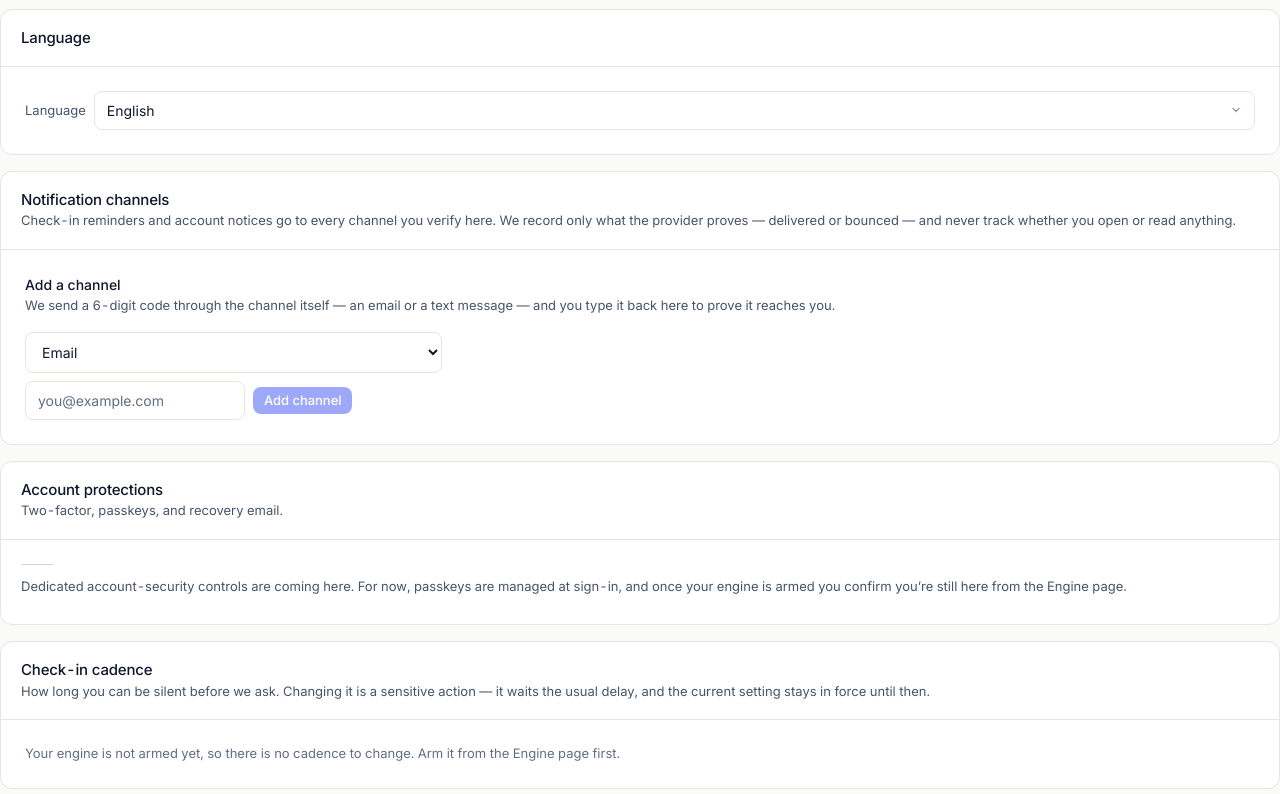
Scenario: Settings — notification channels (CV-0.0) › adds a channel, then verifies it with the code round-trip
(page scrolled)
Expected: the button with test id "channel-add" is disabled, [253,387,352,414]
In the field with test id "channel-add-destination": point(135, 400) [25,381,245,420], type "me@example.com"
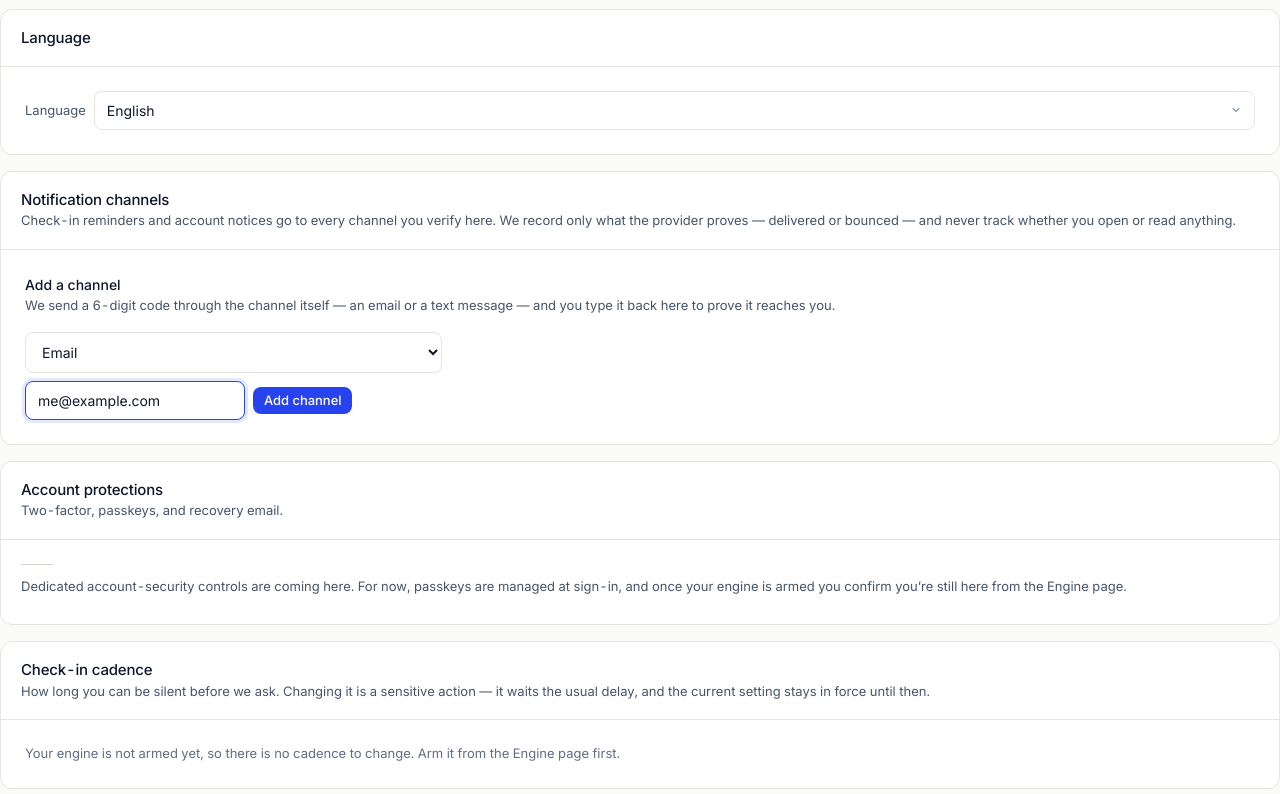
Click the button with test id "channel-add": point(303, 400) [253,387,352,414]
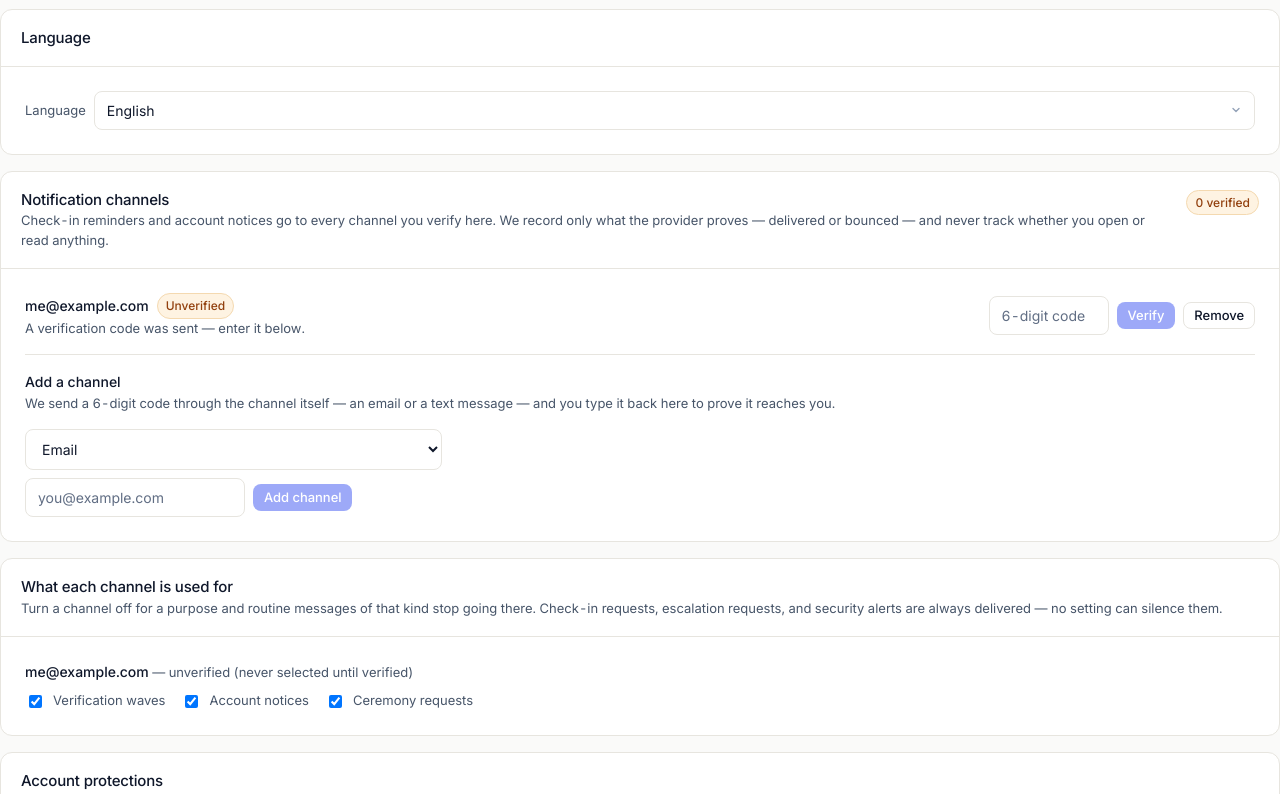
Expected: the field with test id "channel-code-ch-1" is shown
A wrong code surfaces the error and the channel stays unverified.
In the field with test id "channel-code-ch-1": point(1049, 316) [989,296,1109,335], type "999999"
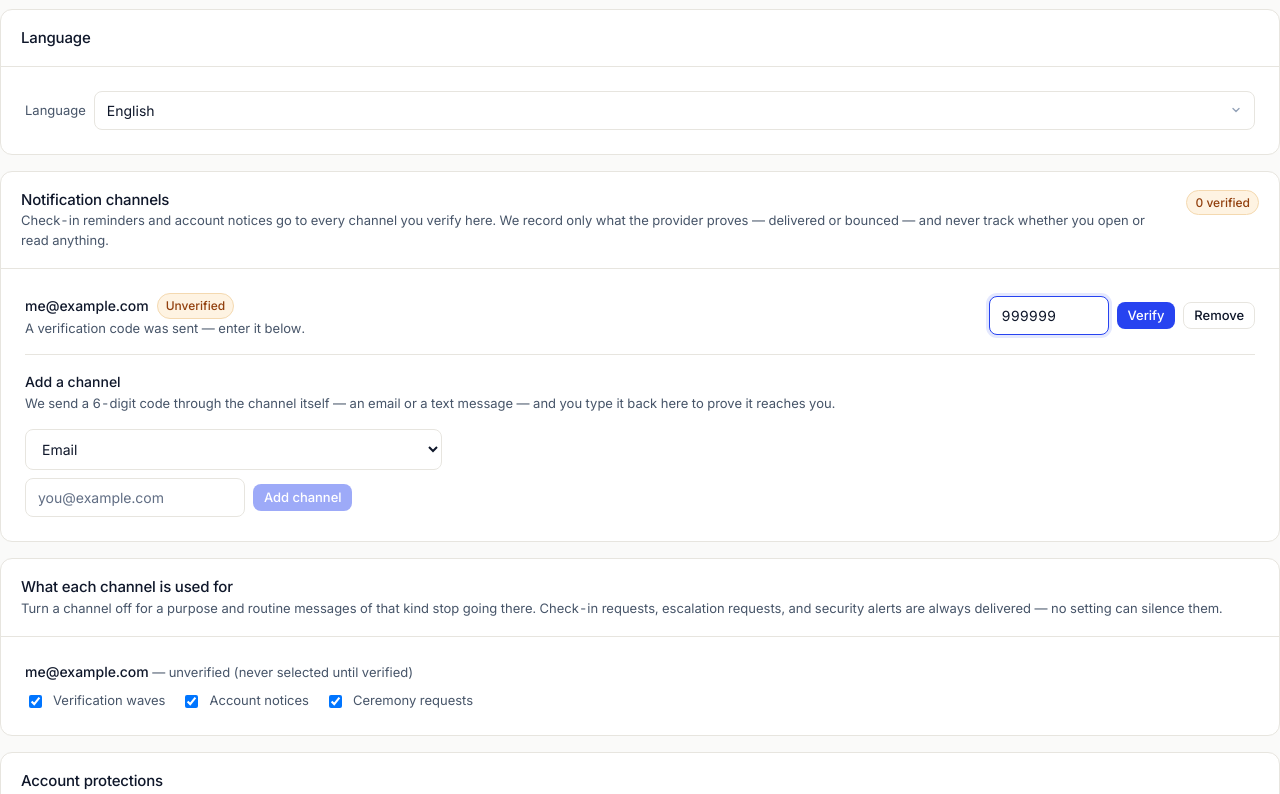
Click the button with test id "channel-verify-ch-1": point(1146, 316) [1117,302,1175,329]
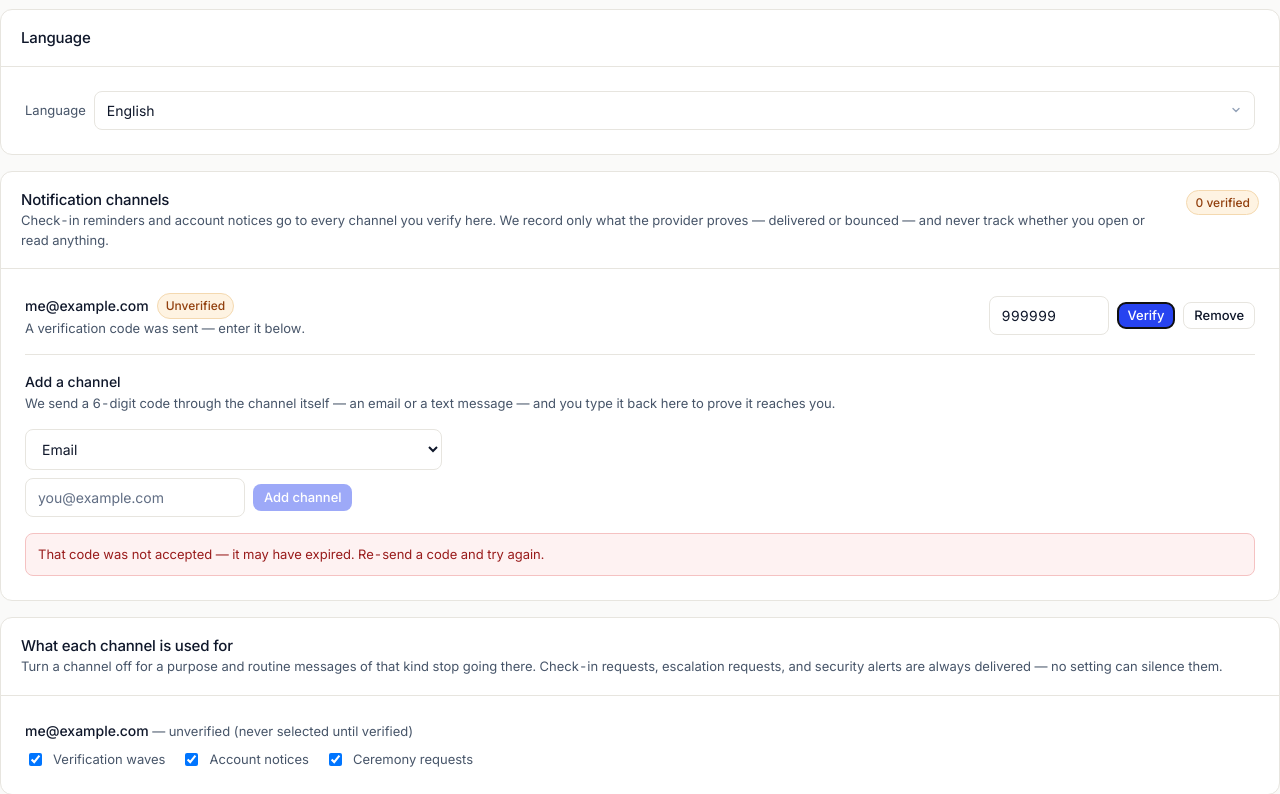
Expected: the message shows "not accepted", [38,546,544,562]
The right code verifies it.
Replace the text in the field with test id "channel-code-ch-1" with "123456": point(1049, 316) [989,296,1109,335]
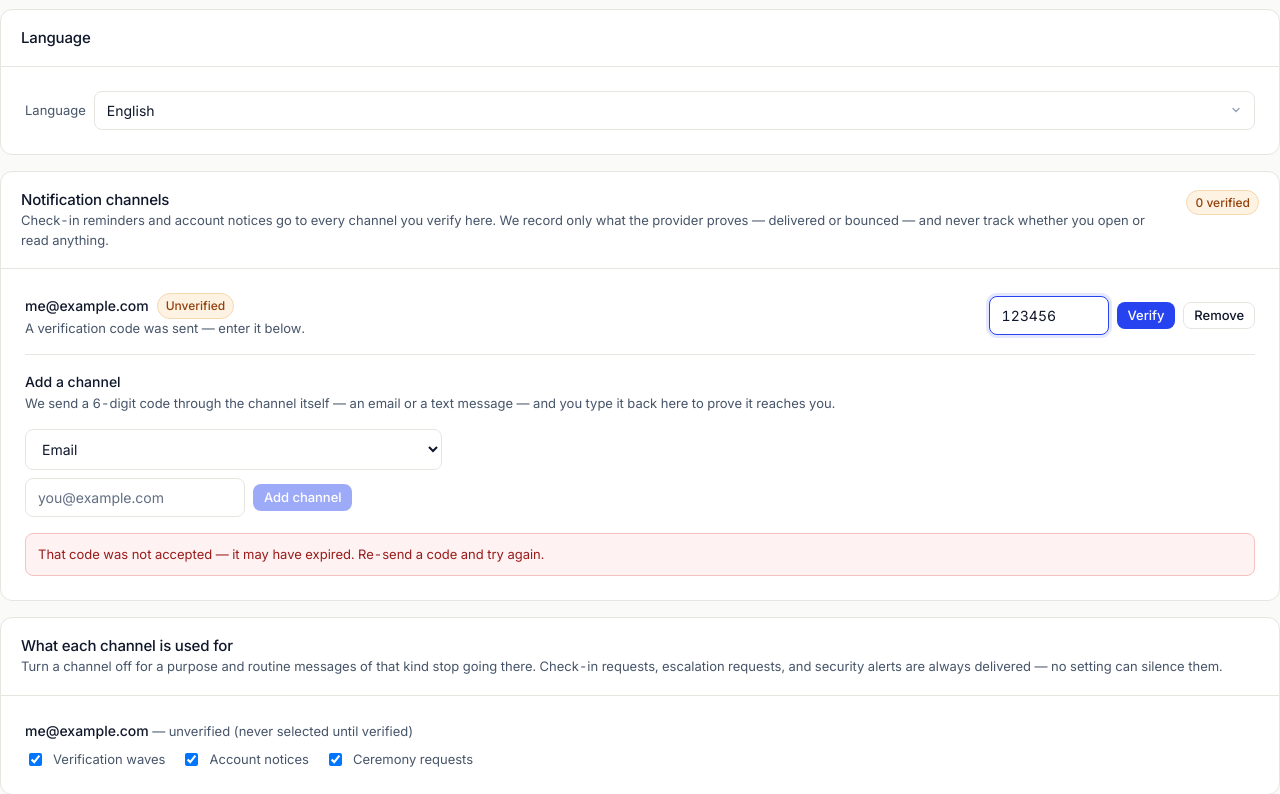
Click the button with test id "channel-verify-ch-1": point(1146, 316) [1117,302,1175,329]
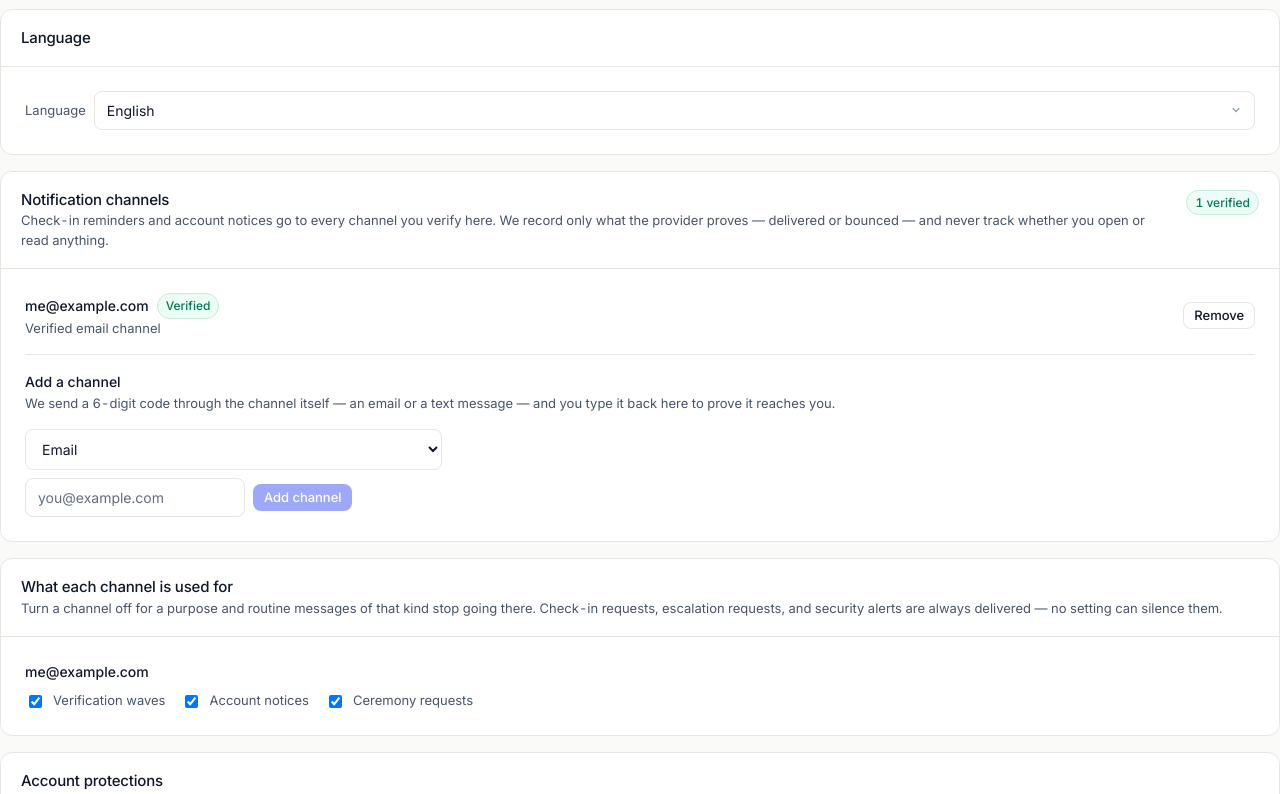
Expected: the text "Verified email channel" is shown, [25,320,161,336]
